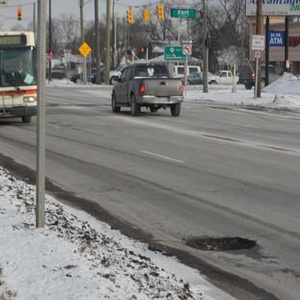pothole: (184, 235, 258, 254)
